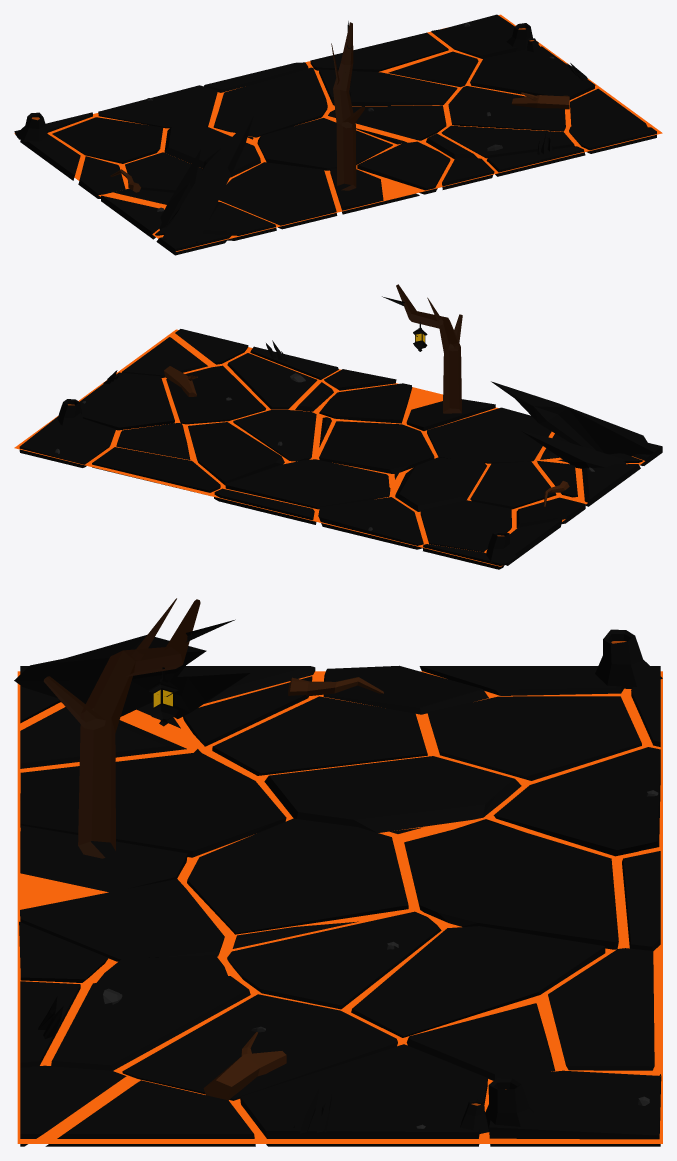
The model's file is terrain-fire.glb.
3 views of the same model, one above another, from view 1: azimuth 30°, elevation 25°; view 2: azimuth 150°, elevation 25°; view 3: azimuth 270°, elevation 25° (orthographic). The views are drawn at different scales.
Parts seen in each view (by area): view 1: fire-terrain; view 2: fire-terrain; view 3: fire-terrain.
Boxes of the visible parts, x1=… form: fire-terrain: x1=14, y1=14, x2=662, y2=255; fire-terrain: x1=14, y1=284, x2=662, y2=569; fire-terrain: x1=14, y1=598, x2=662, y2=1146.
Size of the model in its own units: 13.83 by 4.4 by 7.97.
Materials: 4 (4 with a texture image).
